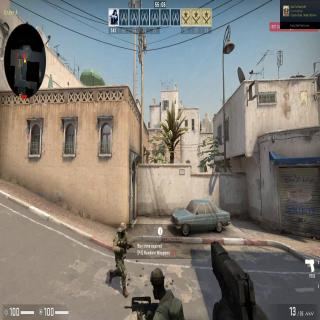CT-Body: (144, 264, 182, 319), (109, 221, 131, 287)
CT-Head: (149, 266, 165, 292), (116, 227, 125, 236)
